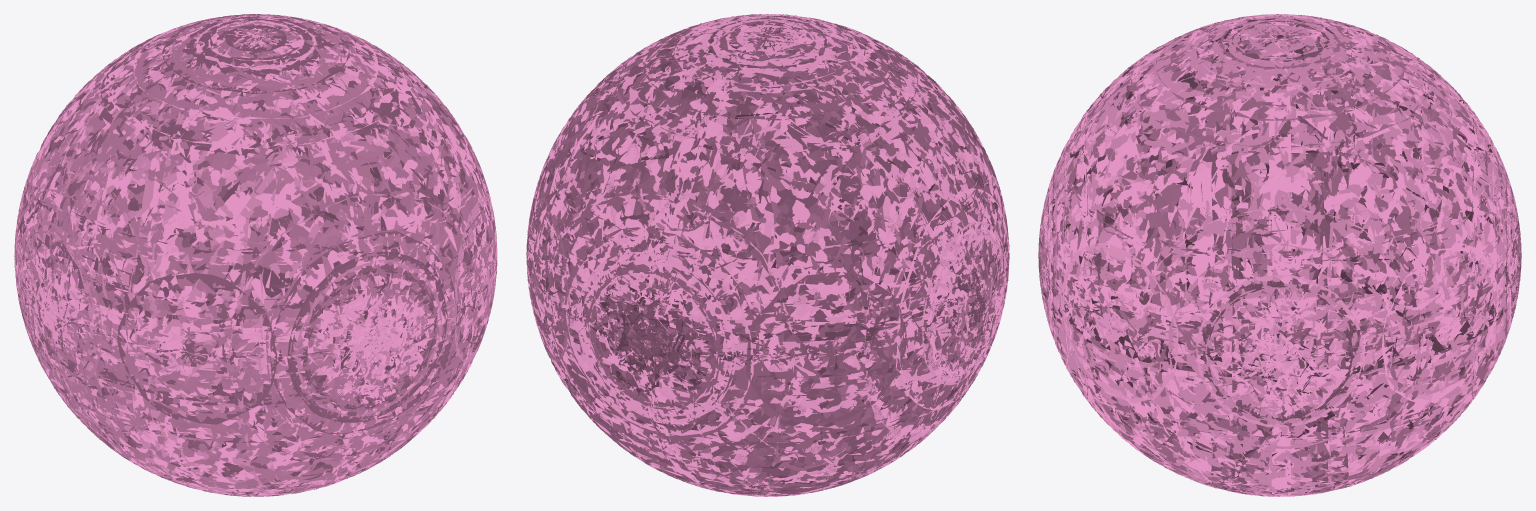
The model's file is sys-id-safety.glb.
3 renders of one model, left to right at view 1: azimuth 30°, elevation 25°; view 2: azimuth 150°, elevation 25°; view 3: azimuth 270°, elevation 25°, orthographic.
Parts seen in each view (by area): view 1: TS-id-safety-1720; view 2: TS-id-safety-1720; view 3: TS-id-safety-1720.
Part boxes in pixels (box(x1,y1,x2,y2)): TS-id-safety-1720: box(14, 14, 497, 496); TS-id-safety-1720: box(526, 14, 1009, 496); TS-id-safety-1720: box(1038, 14, 1521, 496).
Size of the model in its own units: 2 by 2 by 2.
